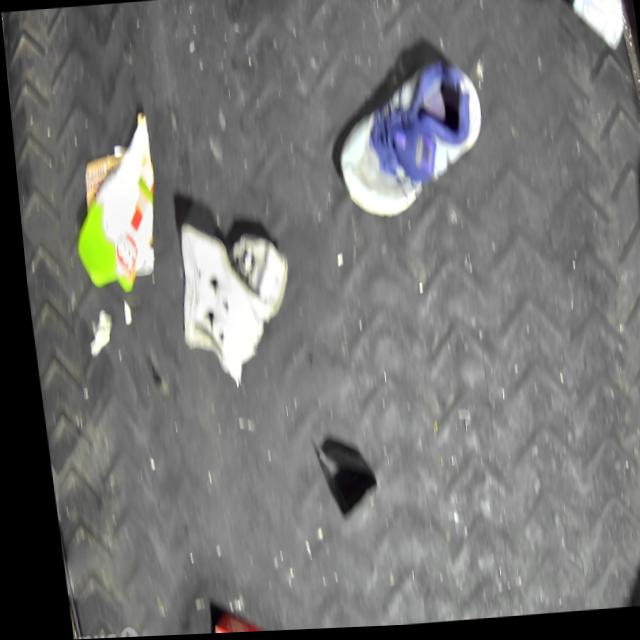can: (221, 230, 288, 324), (560, 0, 627, 61)
